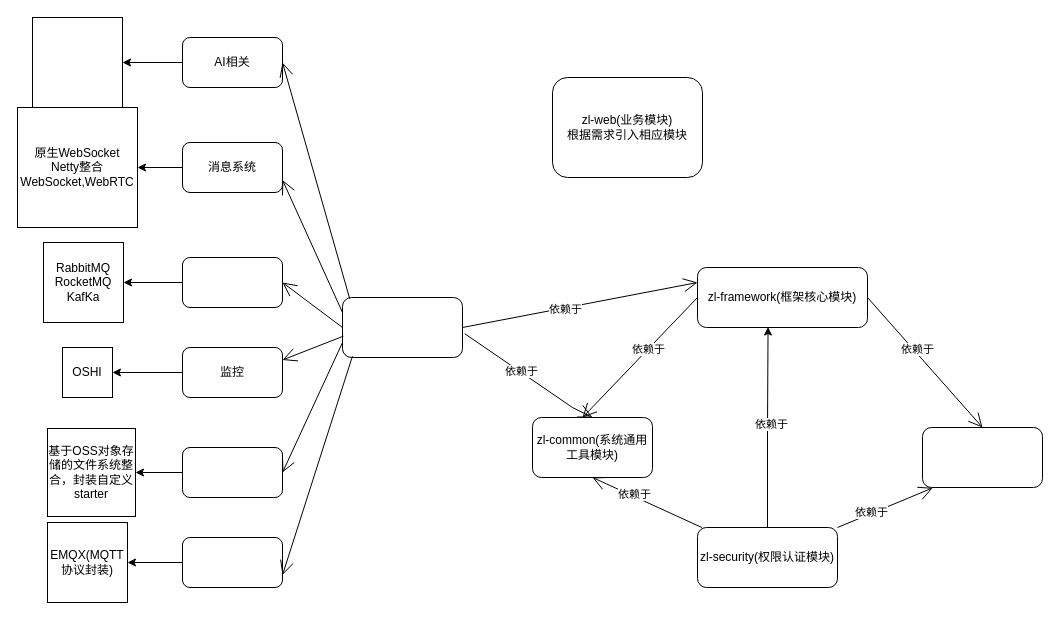
This 1060x620 diagram has some shape labels left out. The centre of each missing label's shape, as x and y in pixels:
"MQ" goes at [232,282].
"SpringAI LangChain4J SpringAIAlibaba" goes at [77,62].
"zl-extend(扩展插件/中间件)" goes at [402,327].
"zl-model(系统实体类模块)" goes at [982,457].
"文件系统" goes at [232,472].
"物联网" goes at [232,562].
